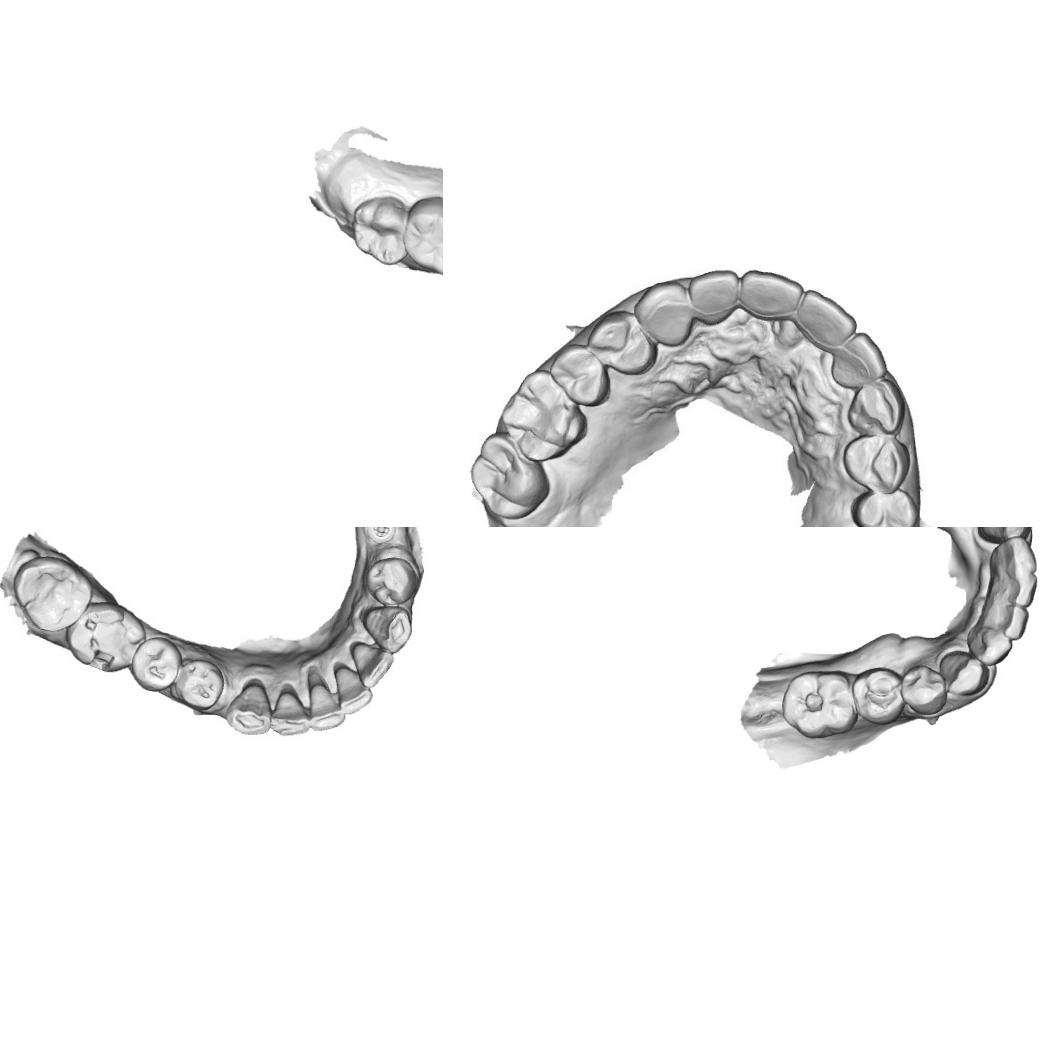canine: (631, 276, 696, 348), (846, 378, 904, 437), (358, 604, 413, 654), (224, 682, 272, 736), (938, 650, 990, 696), (976, 527, 1030, 541)
implant_plus: (364, 527, 396, 544)
incisor: (736, 268, 804, 327), (797, 286, 859, 350), (686, 265, 740, 328), (836, 328, 888, 386), (986, 536, 1036, 584), (349, 640, 395, 688), (978, 598, 1030, 640), (306, 678, 346, 732), (964, 623, 1012, 668), (332, 662, 373, 714), (986, 569, 1038, 606), (270, 688, 310, 736)
molar: (499, 368, 589, 466), (468, 430, 552, 522), (779, 668, 860, 741), (64, 600, 146, 672), (11, 554, 85, 632), (350, 195, 409, 266), (401, 196, 443, 275)
premolar: (584, 310, 655, 376), (840, 434, 910, 492), (546, 342, 608, 407), (850, 667, 905, 726), (130, 635, 182, 692), (364, 556, 418, 607), (848, 489, 918, 527), (174, 658, 224, 711), (900, 663, 948, 715)
